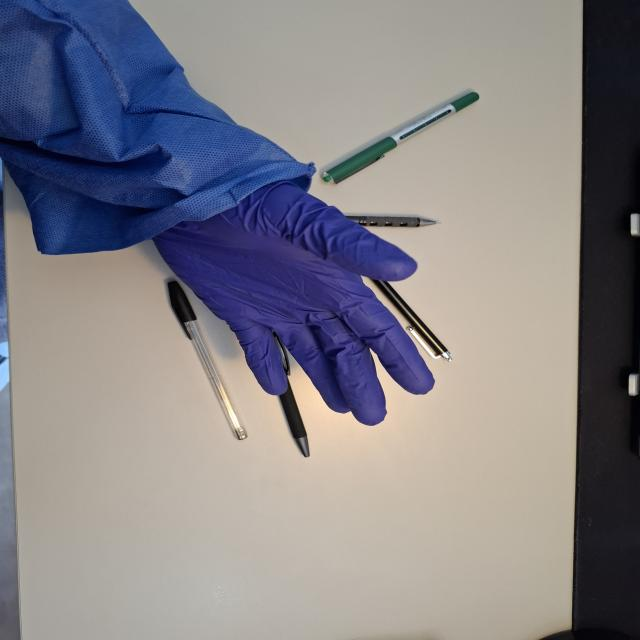glove_on: (144, 169, 438, 428)
